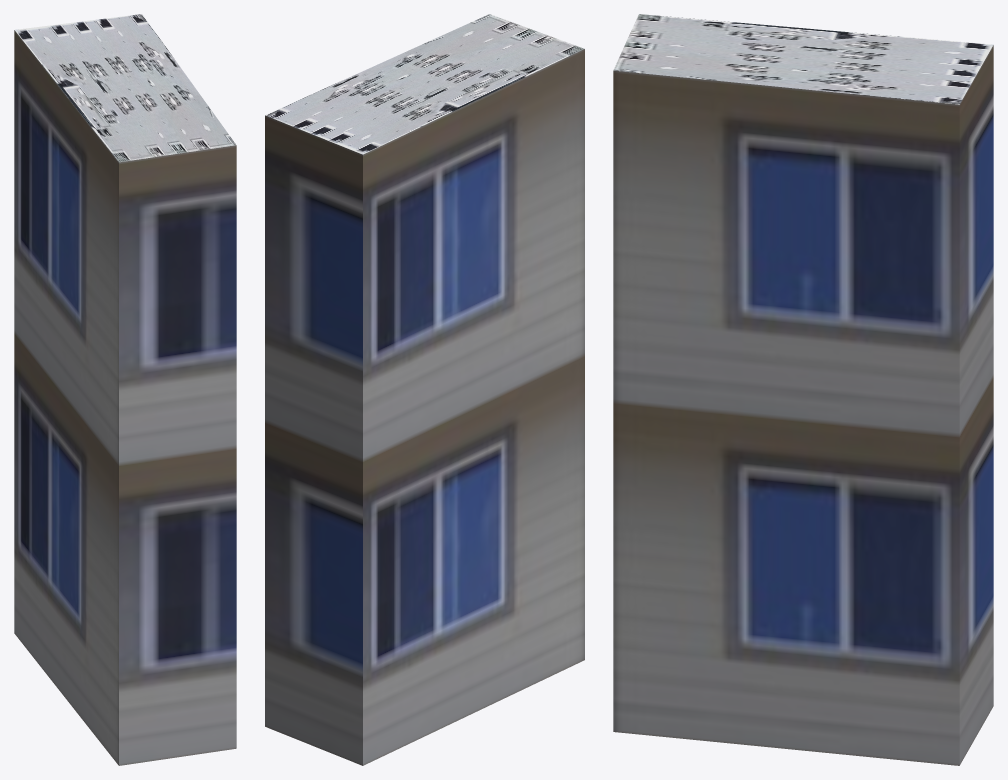
Rendered from ResTex__2631.fbx.
3 views of the same model, side by side, from view 1: azimuth 30°, elevation 25°; view 2: azimuth 150°, elevation 25°; view 3: azimuth 270°, elevation 25° (orthographic). The views are drawn at different scales.
Visible parts, largest first — view 1: CityEngineMaterial_23_m, CityEngineMaterial_m; view 2: CityEngineMaterial_23_m, CityEngineMaterial_m; view 3: CityEngineMaterial_23_m, CityEngineMaterial_m.
Boxes of the visible parts, box(x1,y1,x2,y2) form: CityEngineMaterial_23_m: box(14, 30, 236, 765); CityEngineMaterial_m: box(15, 14, 236, 162); CityEngineMaterial_23_m: box(265, 49, 584, 765); CityEngineMaterial_m: box(265, 14, 584, 154); CityEngineMaterial_23_m: box(613, 45, 993, 765); CityEngineMaterial_m: box(613, 14, 993, 104).
Bounding box in the file's own units: 1.76 × 6 × 3.13.
2 materials, 2 textured.
